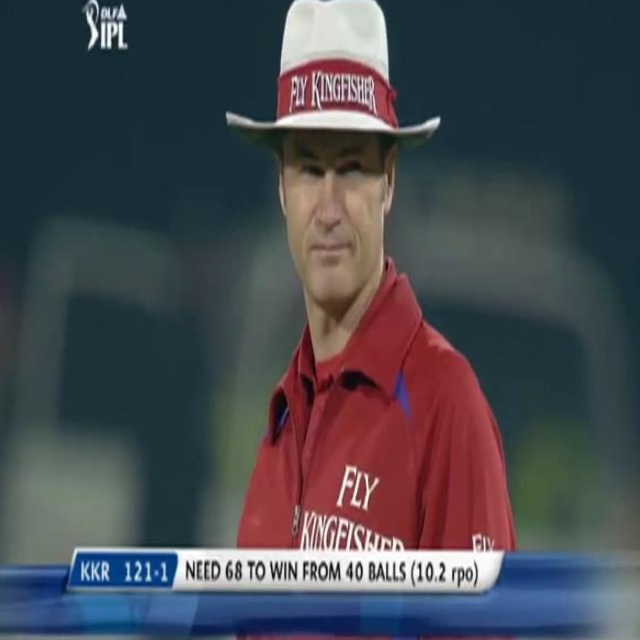No_Action: (213, 0, 526, 558)
